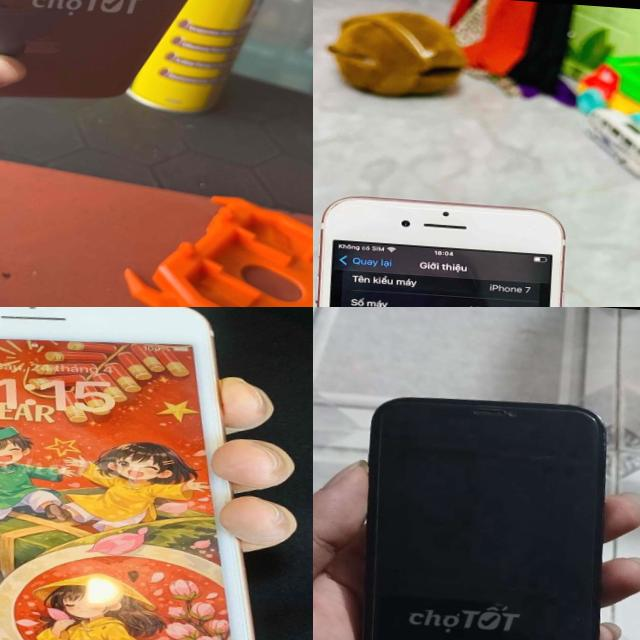scratch: (0, 307, 96, 329), (321, 197, 354, 216)
